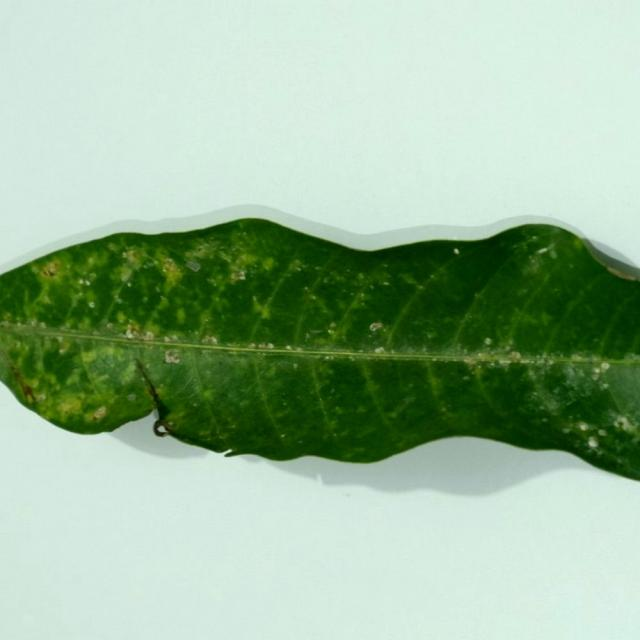Mango: (0, 219, 639, 480)
Powdery_Mildew: (566, 407, 636, 450), (4, 317, 64, 338), (186, 239, 229, 267), (116, 250, 146, 283), (154, 252, 183, 286), (464, 353, 497, 375), (523, 249, 550, 275), (123, 325, 155, 343), (57, 398, 83, 417), (606, 265, 638, 280), (615, 416, 635, 432), (41, 261, 58, 277), (123, 249, 140, 264), (164, 349, 181, 364), (247, 341, 273, 350), (288, 259, 305, 272), (92, 406, 107, 420), (230, 269, 246, 282), (185, 260, 201, 272), (202, 335, 218, 345), (40, 294, 52, 305), (509, 351, 522, 361), (369, 322, 382, 332), (128, 325, 140, 335), (465, 356, 478, 365), (78, 278, 91, 287), (536, 246, 550, 254), (599, 362, 610, 372), (591, 369, 601, 380), (588, 437, 598, 448), (107, 242, 117, 252), (37, 393, 47, 403), (578, 422, 589, 431), (549, 249, 558, 259), (374, 346, 385, 354), (1, 319, 12, 327), (125, 330, 134, 338), (127, 394, 137, 401), (59, 346, 67, 354), (484, 337, 492, 345), (114, 296, 122, 304), (4, 313, 12, 320), (30, 319, 38, 326), (358, 272, 365, 280), (329, 321, 336, 328), (88, 301, 95, 308), (106, 322, 113, 329), (453, 248, 460, 255), (163, 336, 171, 342), (248, 343, 256, 349), (39, 322, 46, 328), (293, 363, 299, 370), (285, 345, 292, 350), (122, 252, 127, 258), (360, 293, 365, 299), (328, 329, 334, 334), (252, 295, 257, 301), (383, 281, 389, 286), (311, 295, 317, 300)
